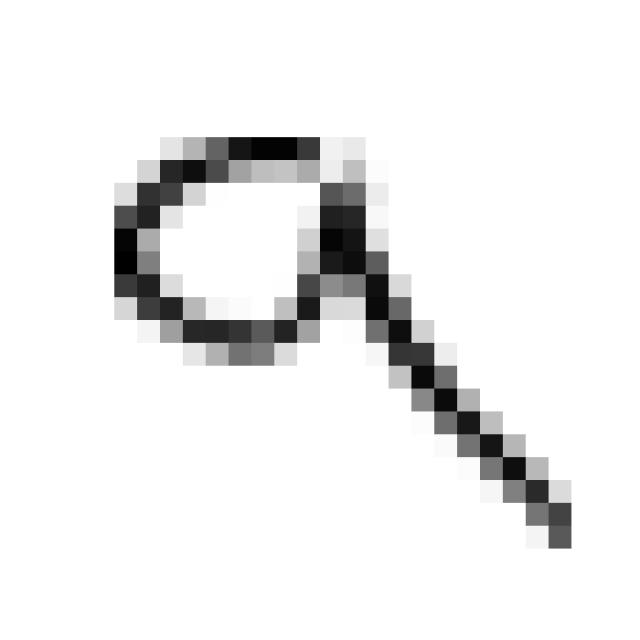9 -nine-: (93, 114, 590, 567)
